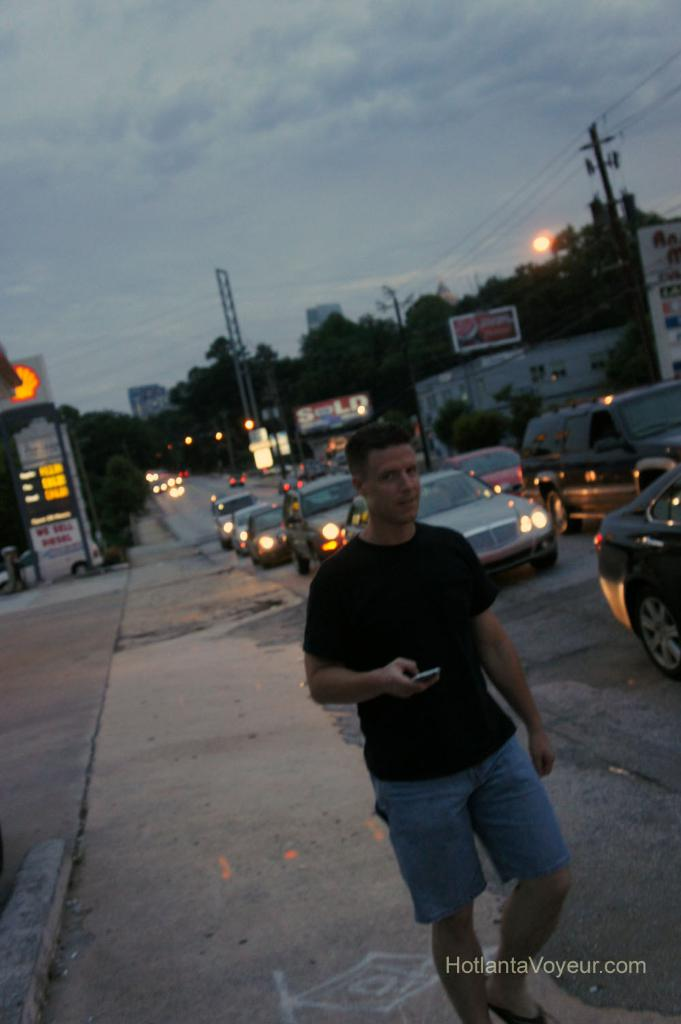Car: (207, 380, 680, 675)
